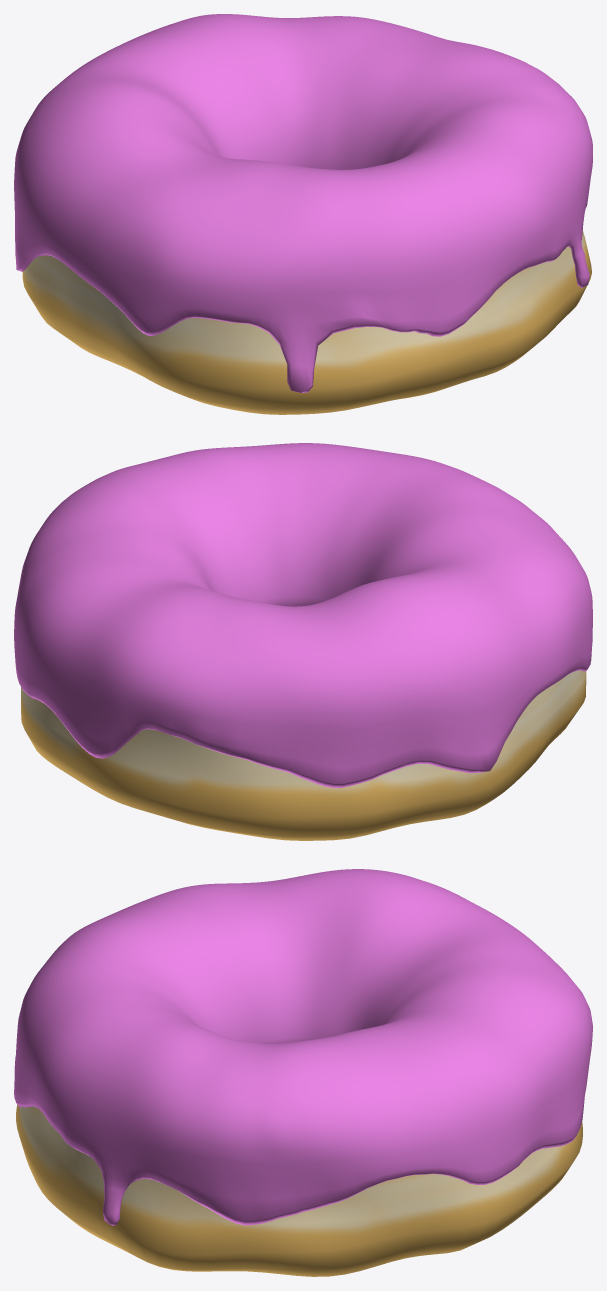
File: donut.glb
3 views of the same model, one above another, from view 1: azimuth 30°, elevation 25°; view 2: azimuth 150°, elevation 25°; view 3: azimuth 270°, elevation 25° (orthographic).
Visible parts, largest first — view 1: Icing, Donut; view 2: Icing, Donut; view 3: Icing, Donut.
Boxes of the visible parts, <box> form: Icing: <box>14,14,592,392</box>; Donut: <box>22,230,591,414</box>; Icing: <box>14,443,592,787</box>; Donut: <box>21,670,586,840</box>; Icing: <box>14,869,592,1225</box>; Donut: <box>16,1104,582,1276</box>.
Size of the model in its own units: 0.1031 by 0.0465 by 0.1032.
2 materials, 1 textured.
